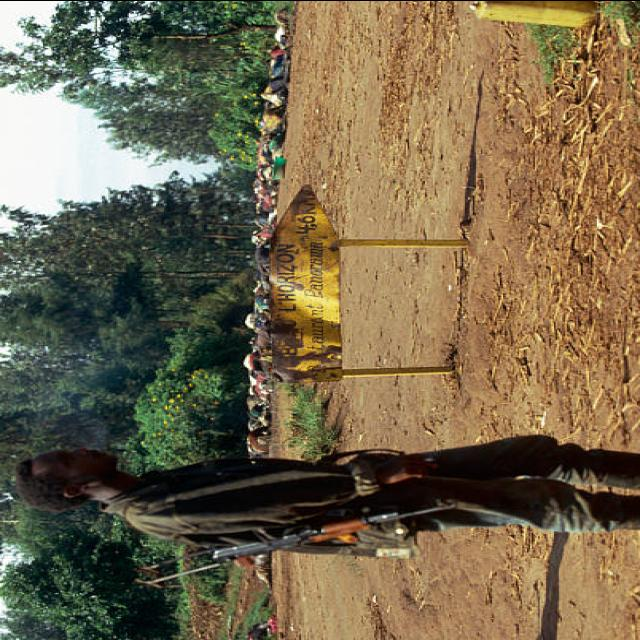terrorist: (16, 435, 640, 559)
